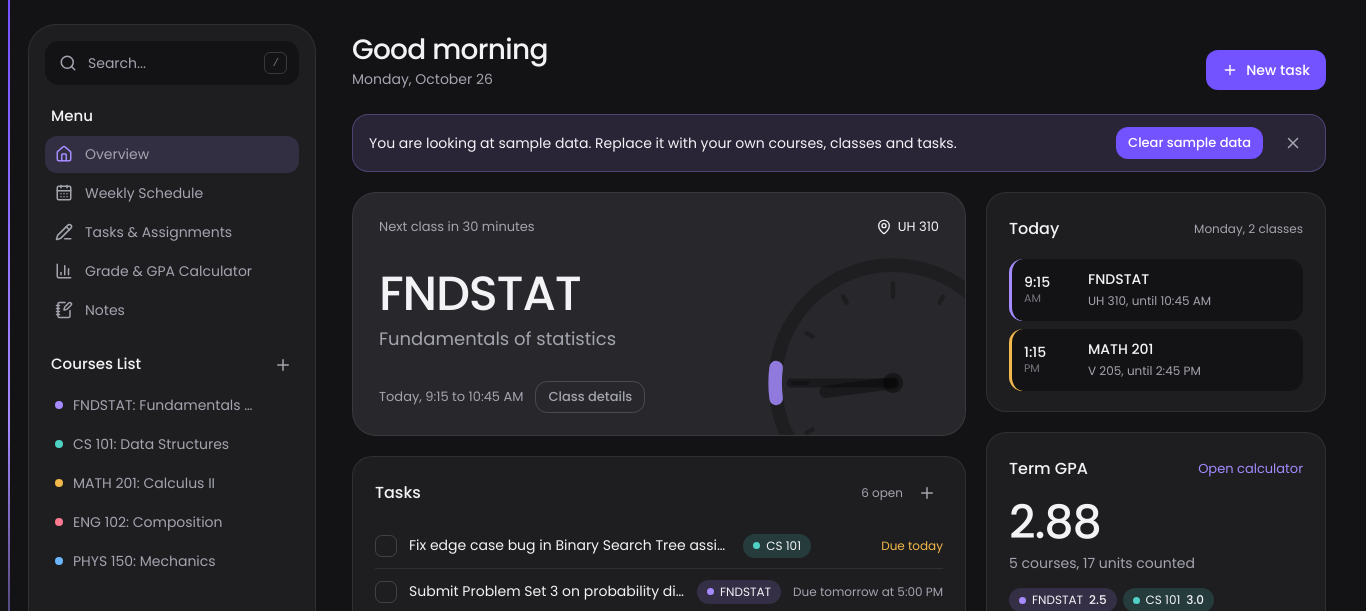
Scenario: Grades › works out what is needed on the rest and updates when a score changes
Click the link "Grade & GPA Calculator": (154, 270) 55,260 -> 252,280
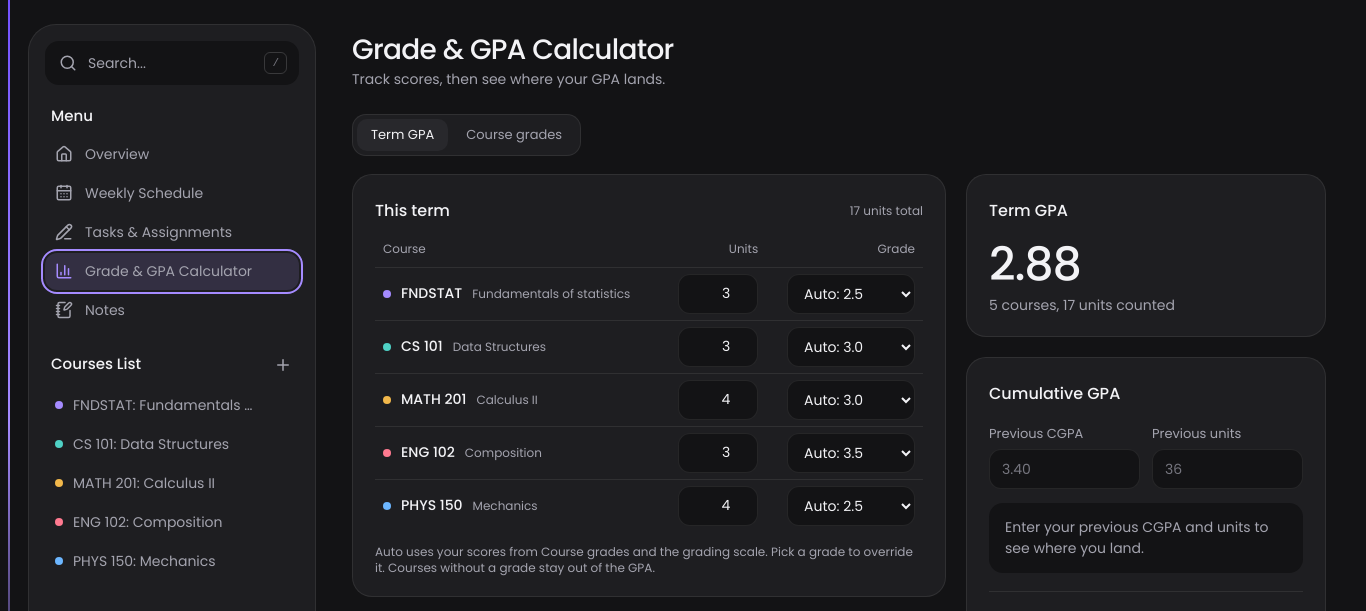
Click the tab "Course grades": (514, 135) 452,119 -> 576,150
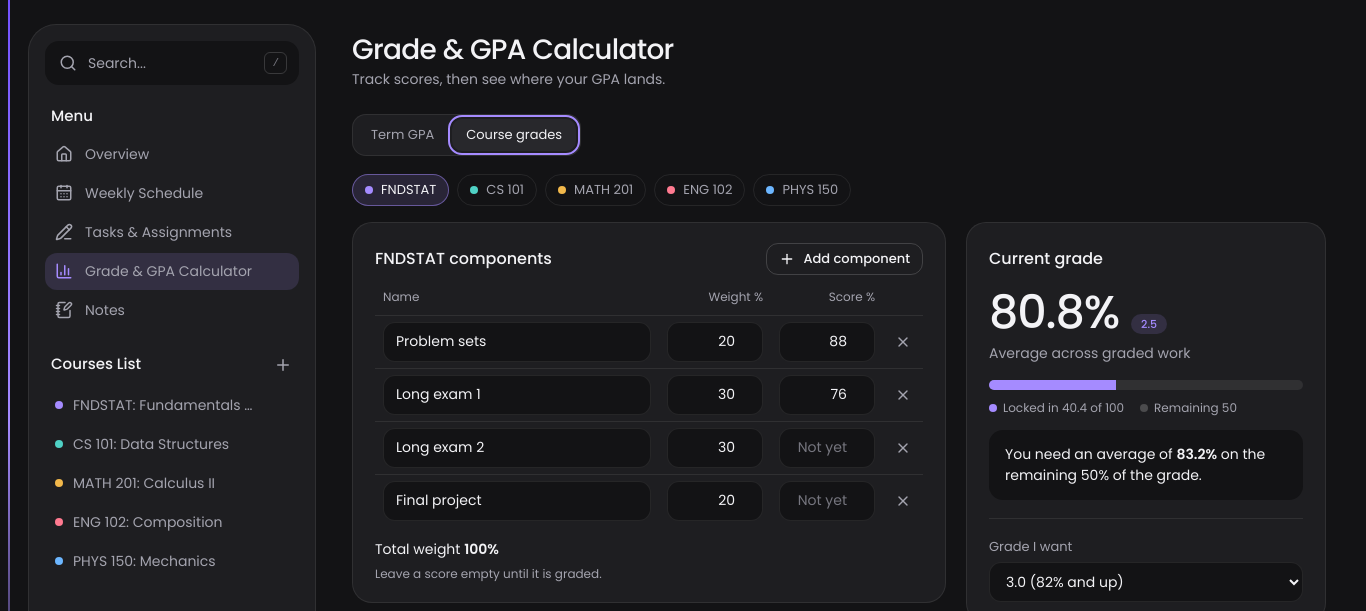
Click the button "FNDSTAT": (401, 190) 352,174 -> 449,206
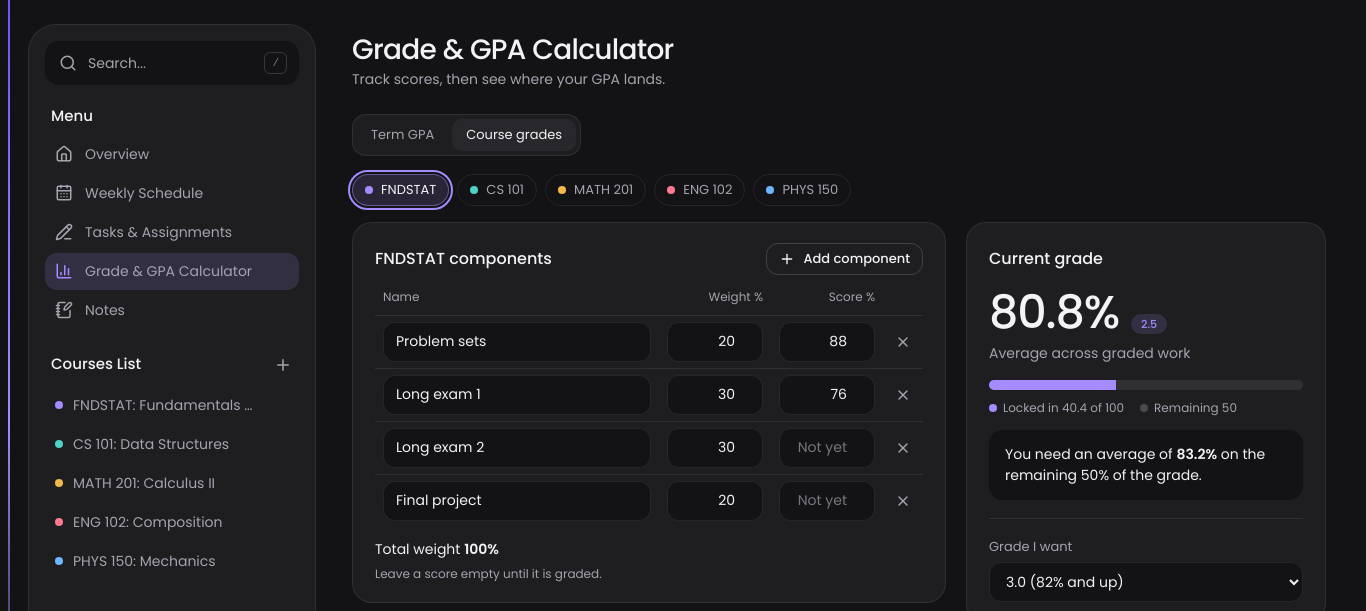
Expected: the text "80.8%" is shown, 989,288 -> 1119,334
Expected: the message shows "average of 83.2% on the remaining 50%", 989,430 -> 1303,500
In the number field named "Score for Long exam 2": (827, 448) 779,428 -> 875,468, type "90"
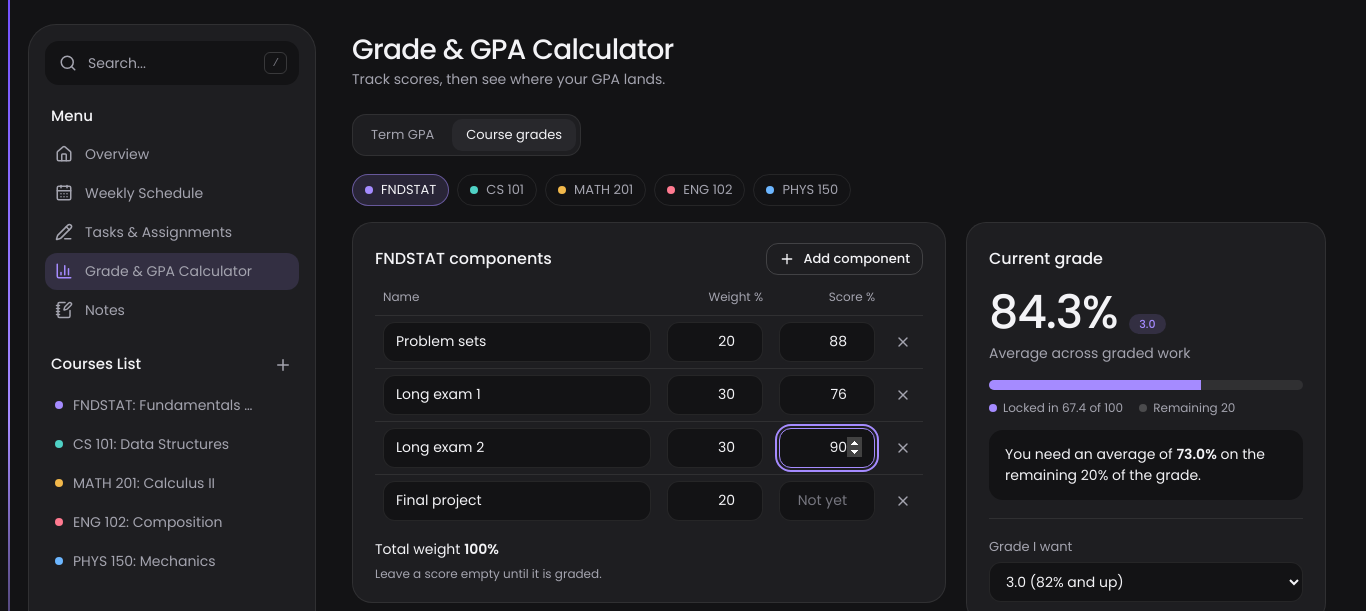
Expected: the text "84.3%" below "Current grade" is shown, 989,288 -> 1117,334
